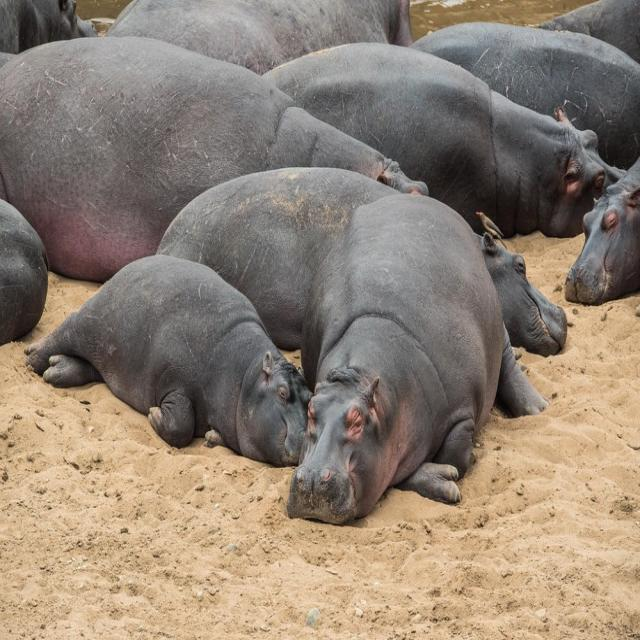hippopotamus: (287, 194, 548, 523), (267, 43, 620, 237), (25, 257, 312, 466), (564, 157, 639, 304)
